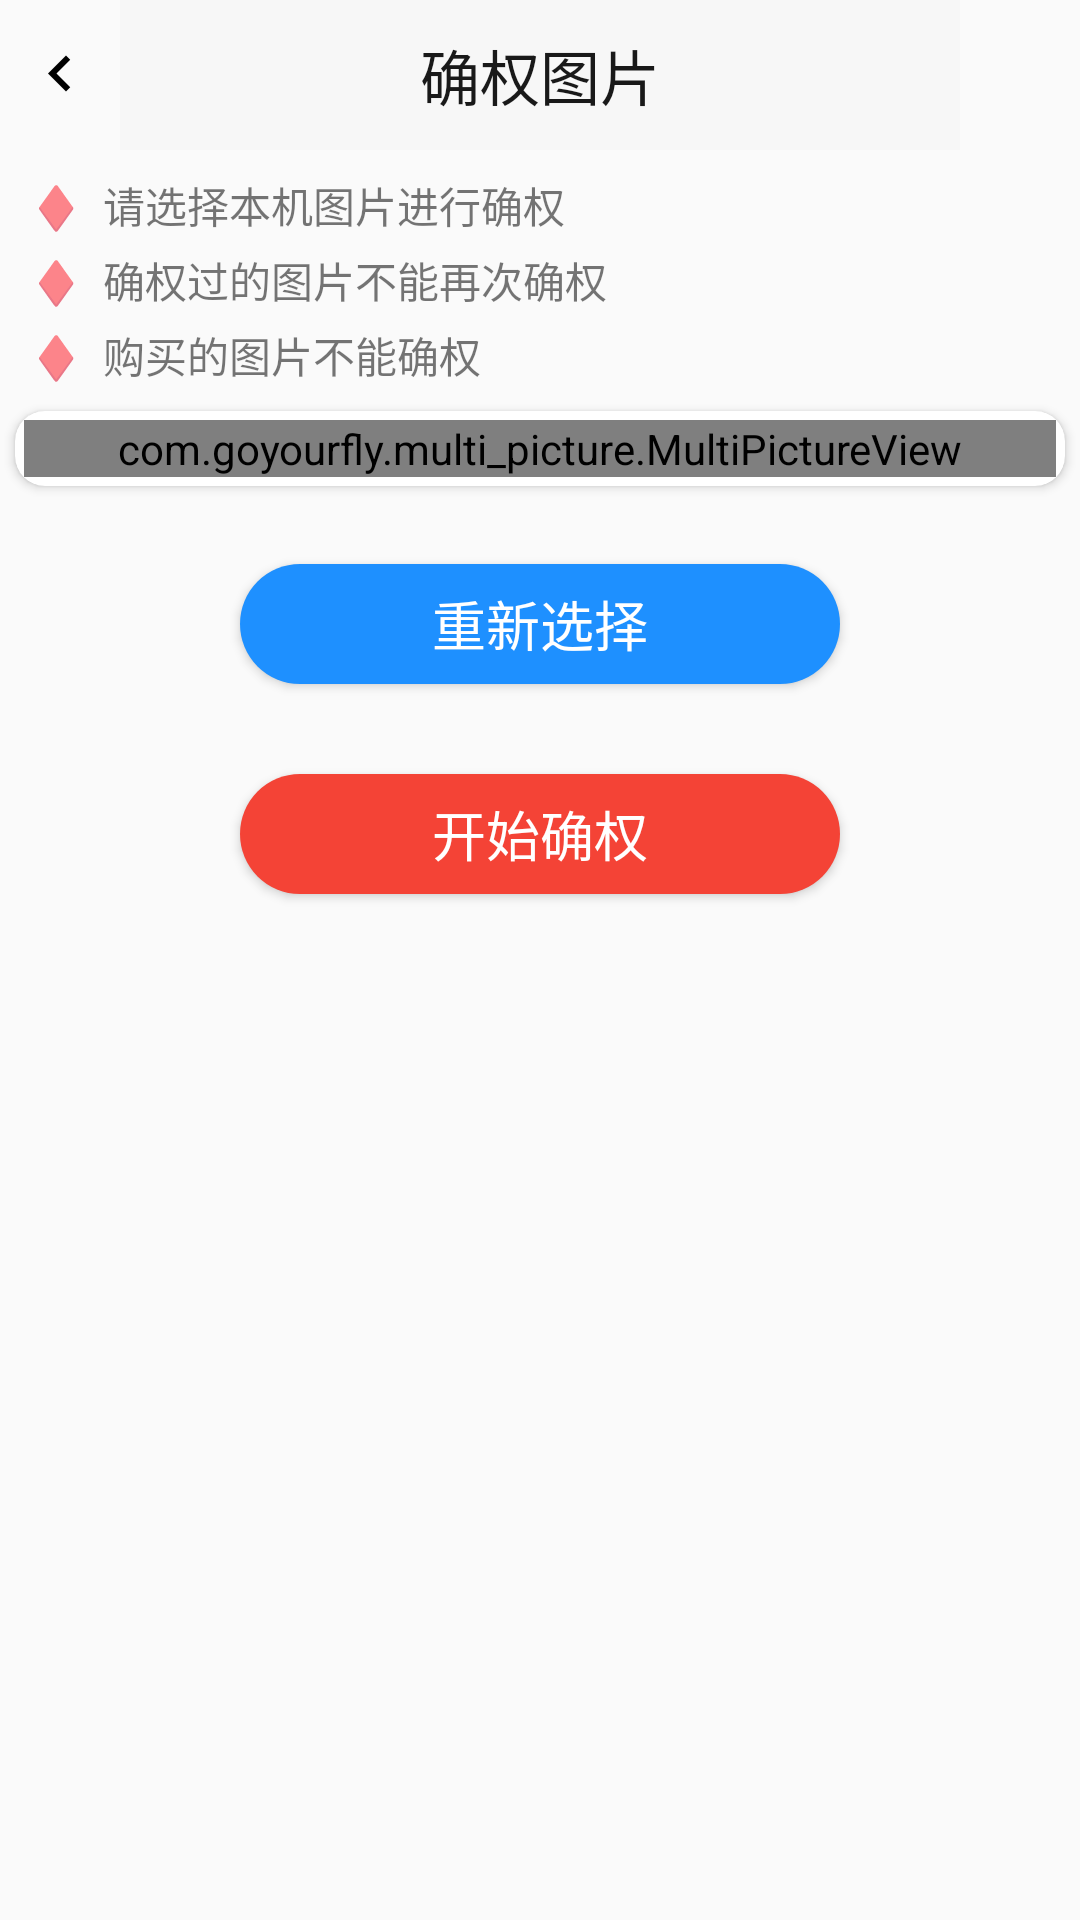

Icons on this 1080 x 1920 Android screen, each with the point to tap as (x=x, y=y):
back: (x=59, y=73)
